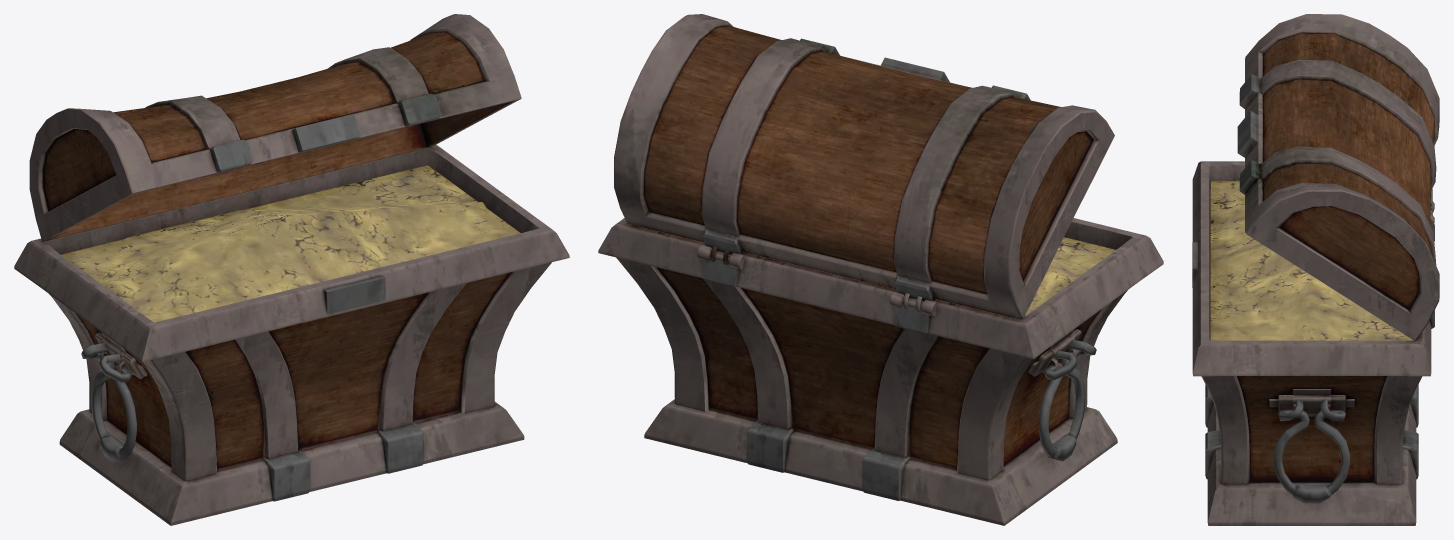
The model's file is chest.glb.
The picture shows the model from 3 angles, left to right: view 1: azimuth 30°, elevation 25°; view 2: azimuth 150°, elevation 25°; view 3: azimuth 270°, elevation 25°; orthographic projection. The views are drawn at different scales.
Visible parts, largest first — view 1: Chest_Gold1; view 2: Chest_Gold1; view 3: Chest_Gold1.
Boxes of the visible parts, x1,y1,x2,y2 form: Chest_Gold1: (14,14,569,525); Chest_Gold1: (598,14,1163,525); Chest_Gold1: (1192,14,1439,525).
Bounding box in the file's own units: 0.9355 × 0.7713 × 0.5029.
1 material, 1 textured.
